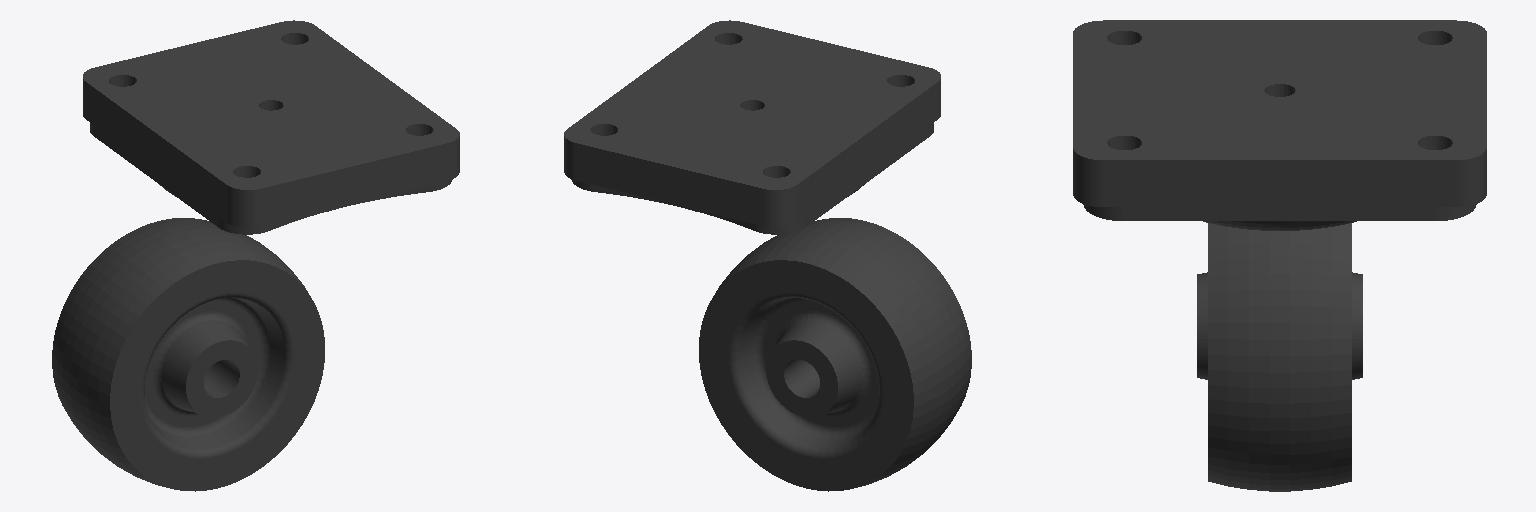
URDF robot description (omo_r1mini):
<?xml version="1.0" ?>
<robot name="omo_r1mini"
  xmlns:xacro="http://ros.org/wiki/xacro">

  <!-- Init colour -->
  <material name="black">
      <color rgba="0.0 0.0 0.0 1.0"/>
  </material>

  <material name="dark">
    <color rgba="0.3 0.3 0.3 1.0"/>
  </material>

  <material name="light_black">
    <color rgba="0.4 0.4 0.4 1.0"/>
  </material>

  <material name="blue">
    <color rgba="0.0 0.0 0.8 1.0"/>
  </material>

  <material name="green">
    <color rgba="0.0 0.8 0.0 1.0"/>
  </material>

  <material name="grey">
    <color rgba="0.5 0.5 0.5 1.0"/>
  </material>

  <material name="orange">
    <color rgba="1.0 0.4235 0.0392 1.0"/>
  </material>

  <material name="brown">
    <color rgba="0.8706 0.8118 0.7647 1.0"/>
  </material>

  <material name="red">
    <color rgba="0.8 0.0 0.0 1.0"/>
  </material>

  <material name="white">
    <color rgba="1.0 1.0 1.0 1.0"/>
  </material>

  <link name="base_footprint"/>

  <joint name="base_joint" type="fixed">
    <parent link="base_footprint"/>
    <child link="base_link" />
    <origin xyz="0 0 0.05" rpy="0 0 0"/>
  </joint>

  <link name="base_link">
    <visual>
      <origin xyz="0 0 -0.01605" rpy="0 0 0"/>
      <geometry>
        <mesh filename="package://omo_r1mini_description/meshes/bases/body_assy.dae" scale="1 1 1"/>
      </geometry>
      <material name="dark"/>
    </visual>

    <collision>
      <origin xyz="0 0 -0.01605" rpy="0 0 0"/>
      <geometry>
        <mesh filename="package://omo_r1mini_description/meshes/bases/body_assy.dae" scale="1 1 1"/>
      </geometry>
    </collision>

    <inertial>
      <origin xyz="-0.1 0 0" rpy="0 0 0"/>
      <mass value="1.3729096e+00"/>
      <inertia ixx="8.7002718e-03" ixy="-4.7576583e-05" ixz="1.1160499e-04"
               iyy="8.6195418e-03" iyz="-3.5422299e-06"
               izz="1.4612727e-02" />
    </inertial>
  </link>

  <joint name="housing_joint" type="fixed">
    <parent link="base_link"/>
    <child link="housing_link" />
    <origin xyz="0 0 0" rpy="0 0 0.0"/>
  </joint>

  <link name="housing_link">
    <visual>
      <origin xyz="0 0 0" rpy="0 0 0"/>
      <geometry>
        <mesh filename="package://omo_r1mini_description/meshes/bases/housing_body.dae" scale="1 1 1"/>
      </geometry>
      <material name="pink"/>
    </visual>
    <collision>
      <origin xyz="0 0 0" rpy="0 0 0"/>
      <geometry>
        <mesh filename="package://omo_r1mini_description/meshes/bases/housing_body.dae" scale="1 1 1"/>
      </geometry>
    </collision>
    <inertial>
      <origin xyz="-0.1 0 0" rpy="0 0 0"/>
      <mass value="0.01"/>
      <inertia ixx="8.7002718e-04" ixy="-4.7576583e-07" ixz="1.1160499e-07"
               iyy="8.6195418e-04" iyz="-3.5422299e-07"
               izz="1.4612727e-04" />
    </inertial>
  </link>

  <joint name="wheel_left_joint" type="fixed"> <!-- continuous -->
    <parent link="base_link"/>
    <child link="wheel_left_link"/>
    <origin xyz="0 0.0835 -0.01605" rpy="0 0 0"/>
    <axis xyz="0 1 0"/>
  </joint>

  <link name="wheel_left_link">
    <visual>
      <origin xyz="0 0 0" rpy="0 0 1.57079633"/>
      <geometry>
        <mesh filename="package://omo_r1mini_description/meshes/wheels/wheel_assy.dae" scale="1 1 1"/>
      </geometry>
      <material name="dark"/>
    </visual>

    <collision>
      <origin xyz="0 0 0" rpy="0 0 1.57079633"/>
      <geometry>
        <mesh filename="package://omo_r1mini_description/meshes/wheels/wheel_assy.dae" scale="1 1 1"/>
      </geometry>
    </collision>
    <inertial>
      <origin xyz="0 0 0" />
      <mass value="2.8498940e-02" />
      <inertia ixx="1.1175580e-05" ixy="-4.2369783e-11" ixz="-5.9381719e-09"
               iyy="1.1192413e-05" iyz="-1.4400107e-11"
               izz="2.0712558e-05" />
    </inertial>
  </link>

  <joint name="wheel_right_joint" type="fixed"> <!-- continuous -->
    <parent link="base_link"/>
    <child link="wheel_right_link"/>
    <origin xyz="0 -0.0835 -0.018" rpy="-3.14159265 0 0"/>
    <axis xyz="0 1 0"/>
  </joint>

  <link name="wheel_right_link">
    <visual>
      <origin xyz="0 0 0" rpy="0 0 1.57079633"/>
      <geometry>
        <mesh filename="package://omo_r1mini_description/meshes/wheels/wheel_assy.dae" scale="1 1 1"/>
      </geometry>
      <material name="dark"/>
    </visual>

    <collision>
      <origin xyz="0 0 0" rpy="0 0 1.57079633"/>
      <geometry>
        <mesh filename="package://omo_r1mini_description/meshes/wheels/wheel_assy.dae" scale="1 1 1"/>
      </geometry>
    </collision>
    <inertial>
      <origin xyz="0 0 0" />
      <mass value="2.8498940e-02" />
      <inertia ixx="1.1175580e-05" ixy="-4.2369783e-11" ixz="-5.9381719e-09"
               iyy="1.1192413e-05" iyz="-1.4400107e-11"
               izz="2.0712558e-05" />
    </inertial>
  </link>

  <joint name="caster_mount_joint" type="fixed">
    <parent link="base_link"/>
    <child link="caster_mount_link"/>
    <origin xyz="-0.10375 0.0 -0.00180" rpy="0 0 0"/>
  </joint>

  <link name="caster_mount_link">
    <visual>
      <origin xyz="0 0 0" rpy="0 0 0"/>
      <geometry>
        <mesh filename="package://omo_r1mini_description/meshes/wheels/caster_wheel_mount.dae" scale="1 1 1"/>
      </geometry>
      <material name="dark"/>
    </visual>
    <collision>
      <origin xyz="0 0 0" rpy="0 0 0"/>
      <geometry>
        <mesh filename="package://omo_r1mini_description/meshes/wheels/caster_wheel_mount.dae" scale="1 1 1"/>
      </geometry>
    </collision>

    <inertial>
      <origin xyz="0 0 0" />
      <mass value="0.005" />
      <inertia ixx="0.001" ixy="0.0" ixz="0.0"
               iyy="0.001" iyz="0.0"
               izz="0.001" />
    </inertial>
  </link>

  <joint name="caster_rotate_joint" type="fixed"> <!-- continuous -->
    <parent link="caster_mount_link"/>
    <child link="caster_rotate_link"/>
    <origin xyz="0 0 -0.011" rpy="0 0 0"/>
  </joint>

  <link name="caster_rotate_link">
    <visual>
      <origin xyz="0 0 0" rpy="0 0 0"/>
      <geometry>
        <mesh filename="package://omo_r1mini_description/meshes/wheels/caster_wheel_rotate.dae" scale="1 1 1"/>
      </geometry>
      <material name="dark"/>
    </visual>
    <collision>
      <origin xyz="0 0 0" rpy="0 0 0"/>
      <geometry>
        <mesh filename="package://omo_r1mini_description/meshes/wheels/caster_wheel_rotate.dae" scale="1 1 1"/>
      </geometry>
    </collision>

    <inertial>
      <origin xyz="0 0 0" />
      <mass value="0.005" />
      <inertia ixx="0.001" ixy="0.0" ixz="0.0"
               iyy="0.001" iyz="0.0"
               izz="0.001" />
    </inertial>
  </link>

  <joint name="caster_wheel_joint" type="fixed"> <!-- continuous -->
    <parent link="caster_rotate_link"/>
    <child link="caster_wheel_link"/>
    <origin xyz="-0.0115 0 -0.0195" rpy="0 0 0"/>
    <axis xyz="0 1 0"/>
  </joint>

  <link name="caster_wheel_link">
    <visual>
      <origin xyz="0 0 0" rpy="0 0 0"/>
      <geometry>
        <mesh filename="package://omo_r1mini_description/meshes/wheels/caster_wheel.dae" scale="1 1 1"/>
      </geometry>
      <material name="dark"/>
    </visual>
    <collision>
      <origin xyz="0 0 0" rpy="0 0 0"/>
      <geometry>
        <mesh filename="package://omo_r1mini_description/meshes/wheels/caster_wheel.dae" scale="1 1 1"/>
      </geometry>
    </collision>

    <inertial>
      <origin xyz="0 0 0" />
      <mass value="0.005" />
      <inertia ixx="0.001" ixy="0.0" ixz="0.0"
               iyy="0.001" iyz="0.0"
               izz="0.001" />
    </inertial>
  </link>

  <joint name="imu_joint" type="fixed">
    <parent link="base_link"/>
    <child link="imu_link"/>
    <origin xyz="-0.02 0.01 0.015" rpy="0 0 0"/>
  </joint>

  <link name="imu_link"/>

  <joint name="scan_joint" type="fixed">
    <parent link="base_link"/>
    <child link="base_scan"/>
    <origin xyz="0 0 0.081" rpy="0 0 0"/>
  </joint>

  <link name="base_scan">
    <visual>
      <origin xyz="0 0 -0.046" rpy="0 0 0"/>
      <geometry>
        <mesh filename="package://omo_r1mini_description/meshes/sensors/ydlidar_assy.dae" scale="1 1 1"/>
      </geometry>
      <material name="dark"/>
    </visual>

    <collision>
      <origin xyz="0 0 -0.046" rpy="0 0 0"/>
      <geometry>
        <mesh filename="package://omo_r1mini_description/meshes/sensors/ydlidar_assy.dae" scale="1 1 1"/>
      </geometry>
    </collision>

    <inertial>
      <mass value="0.114" />
      <origin xyz="0 0 0" />
      <inertia ixx="0.001" ixy="0.0" ixz="0.0" iyy="0.001" iyz="0.0" izz="0.001" />
    </inertial>
  </link>
</robot>

--- Facts derived from the render (not from the file) ---
Views: 3 orthographic renders of the robot side by side, from view 1: azimuth 30°, elevation 25°; view 2: azimuth 150°, elevation 25°; view 3: azimuth 270°, elevation 25°.
Model omo_r1mini with 10 links and 9 joints (9 fixed), rooted at base_footprint, posed every joint at zero.
Links seen in each view (by area): view 1: caster_wheel_link, caster_mount_link; view 2: caster_wheel_link, caster_mount_link; view 3: caster_mount_link, caster_wheel_link.
Boxes of the visible links, left/top/right/bottom form: caster_wheel_link: left=52, top=218, right=324, bottom=491; caster_mount_link: left=83, top=20, right=459, bottom=234; caster_wheel_link: left=699, top=218, right=971, bottom=491; caster_mount_link: left=564, top=20, right=940, bottom=234; caster_mount_link: left=1073, top=20, right=1486, bottom=230; caster_wheel_link: left=1197, top=223, right=1362, bottom=491.
Size in the robot's own frame: 0.0435 by 0.04 by 0.0465 metres.
Meshes: 7 distinct files referenced, 2 mesh visuals loaded (2 Collada DAE); not drawn: 6 (file found but could not be loaded).